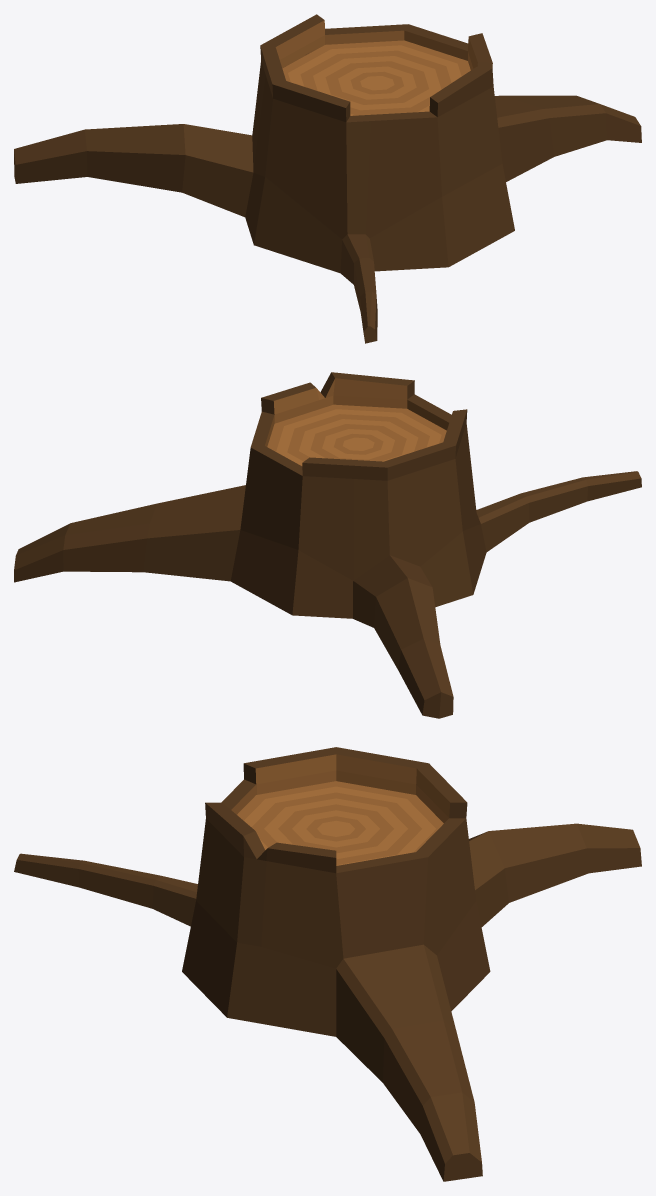
Rendered from another_test.fbx.
The picture shows the model from 3 angles, top to bottom: view 1: azimuth 30°, elevation 25°; view 2: azimuth 150°, elevation 25°; view 3: azimuth 270°, elevation 25°; orthographic projection. The views are drawn at different scales.
Parts seen in each view (by area): view 1: Circle; view 2: Circle; view 3: Circle.
Boxes of the visible parts, bbox=[...] form: Circle: bbox=[14, 14, 641, 343]; Circle: bbox=[14, 372, 641, 718]; Circle: bbox=[14, 747, 641, 1181].
Bounding box in the file's own units: 603 × 213 × 555.
